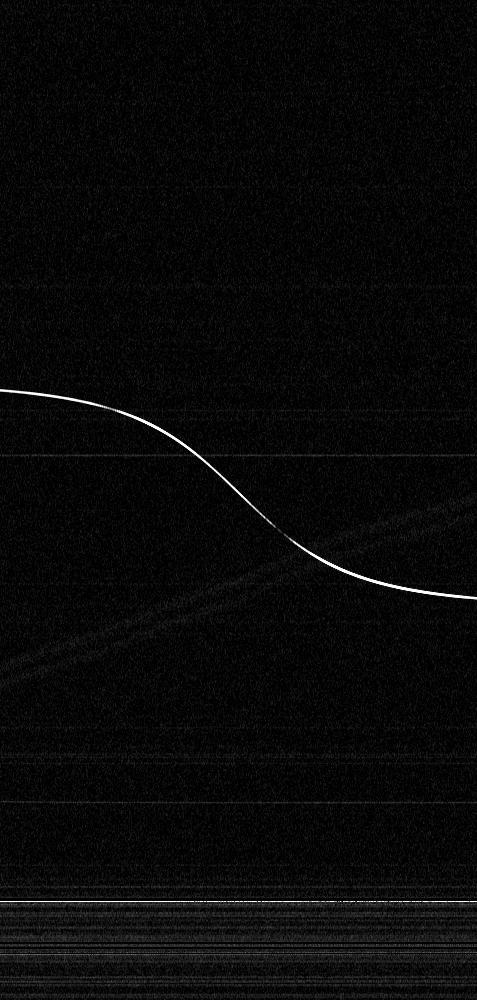signal: (0, 0, 476, 999)
